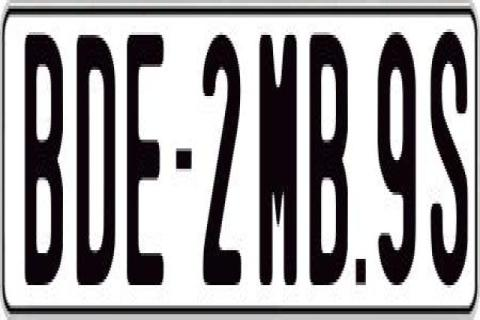0: (202, 26, 248, 294), (374, 27, 418, 286)
B: (309, 32, 351, 288), (22, 35, 62, 299)
D: (74, 27, 112, 286)
E: (125, 26, 168, 291)
M: (260, 35, 299, 285)
S: (428, 23, 459, 276)
